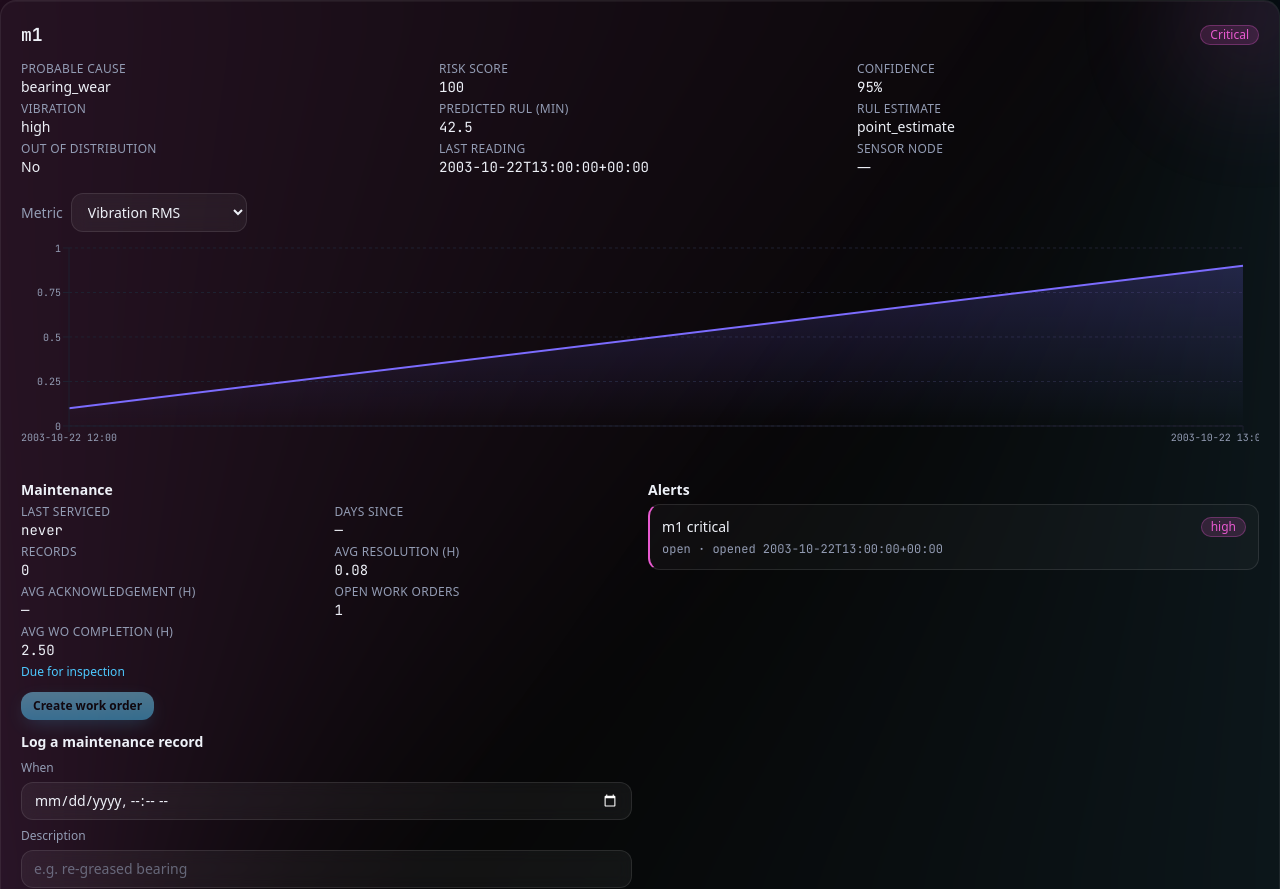
it: MachineDetail › disables the button for an operator until an alert is selected
This screenshot has width=1280, height=889.
Expected: the button "Create work order" is disabled, [21,692,154,720]
Click the text "m1 critical": (696, 527) [662,517,730,537]
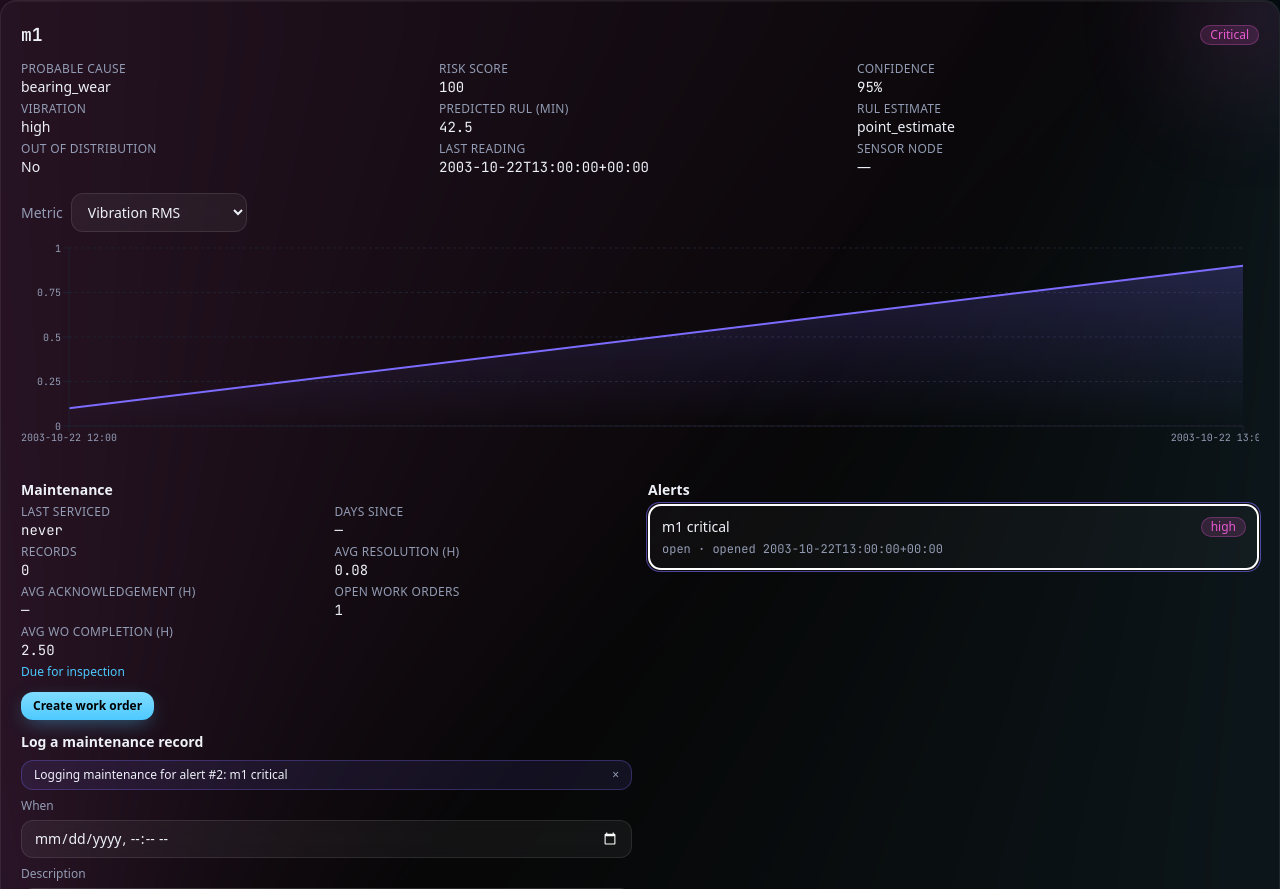
Expected: the button "Create work order" is enabled, [21,692,154,720]
